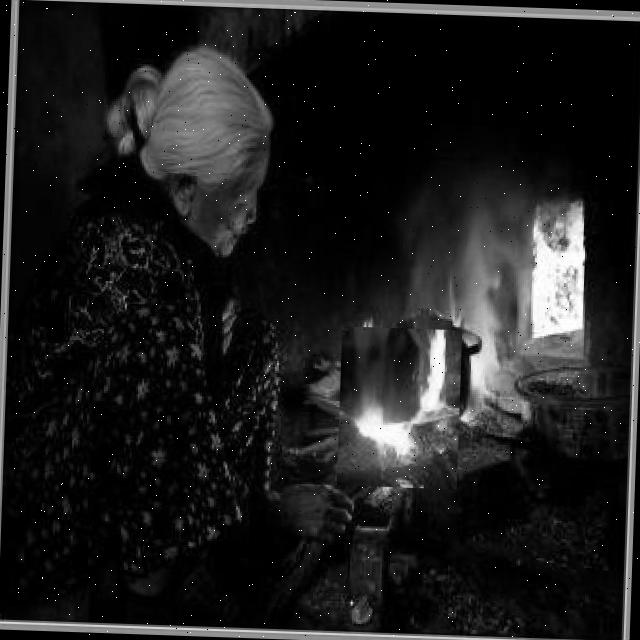fire: (336, 326, 462, 489)
